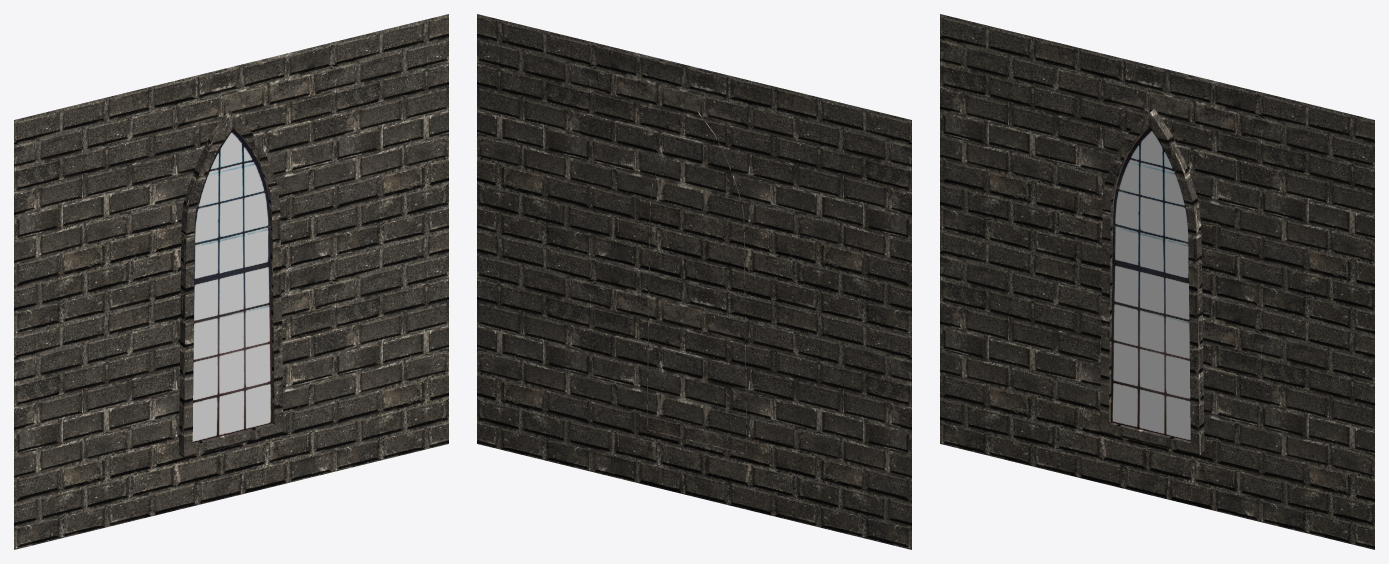
Rendered from WallTileWindow.FBX.
3 views of the same model, side by side, from view 1: azimuth 30°, elevation 25°; view 2: azimuth 150°, elevation 25°; view 3: azimuth 330°, elevation 25° (orthographic).
Parts seen in each view (by area): view 1: WallTileWindow; view 2: WallTileWindow; view 3: WallTileWindow.
Boxes of the visible parts, x1,y1,x2,y2 form: WallTileWindow: [14, 14, 448, 549]; WallTileWindow: [477, 14, 911, 549]; WallTileWindow: [940, 14, 1374, 549].
Bounding box in the file's own units: 400 × 378 × 8.92.
2 materials, 2 textured.
